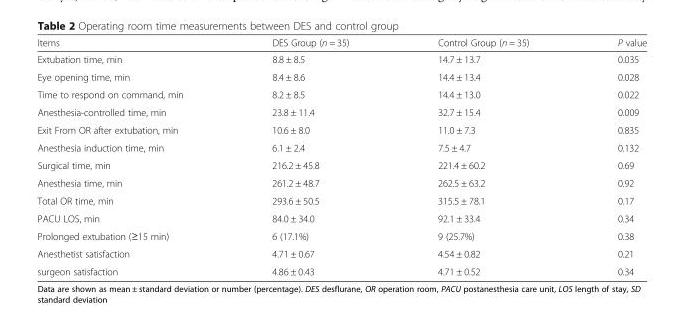table: (36, 36, 646, 276)
table column: (36, 36, 226, 276), (392, 36, 572, 276), (226, 36, 392, 276), (572, 36, 646, 276)
table column header: (36, 36, 646, 50)
table row: (36, 67, 646, 85), (36, 85, 646, 103), (36, 120, 646, 138), (36, 138, 646, 156), (36, 173, 646, 191), (36, 191, 646, 209), (36, 226, 646, 244), (36, 244, 646, 262), (36, 50, 646, 67), (36, 103, 646, 120), (36, 156, 646, 173), (36, 209, 646, 226), (36, 36, 646, 50), (36, 262, 646, 276)
